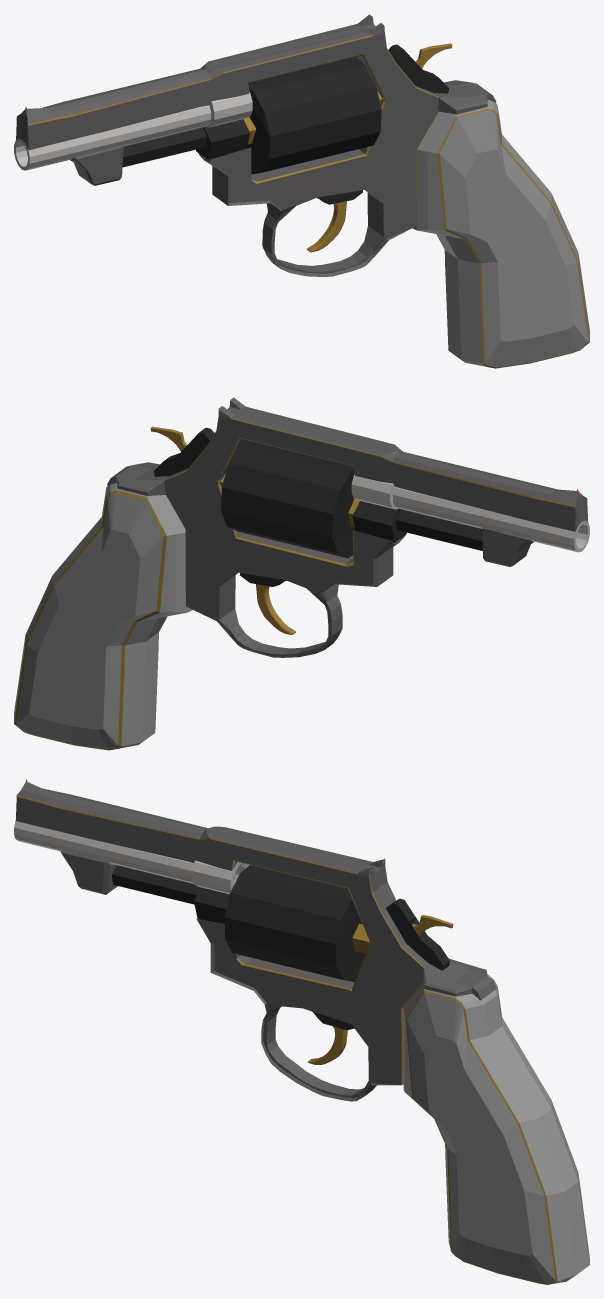
File: rewolwer-mniej-ver1.fbx
3 renders of one model, top to bottom at view 1: azimuth 30°, elevation 25°; view 2: azimuth 150°, elevation 25°; view 3: azimuth 330°, elevation 25°, orthographic.
Parts seen in each view (by area): view 1: Cube.001; view 2: Cube.001; view 3: Cube.001.
Part boxes in pixels (x1,y1,x2,y2): Cube.001: (14, 14, 589, 368); Cube.001: (14, 397, 589, 750); Cube.001: (14, 779, 589, 1284).
Size of the model in its own units: 26.94 by 16.75 by 3.92.
